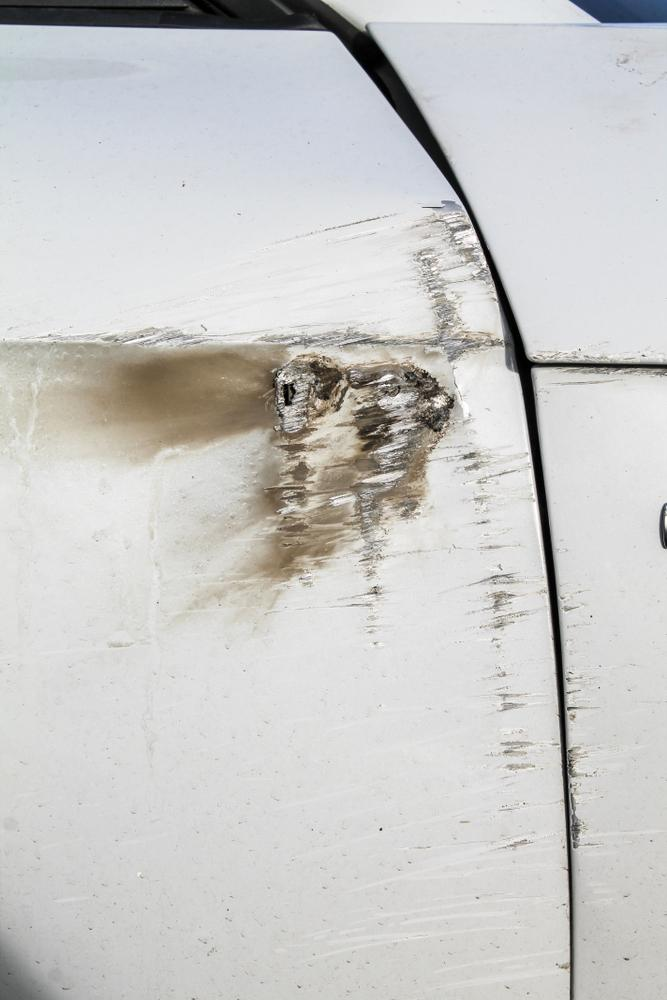scratch: (0, 197, 570, 1000), (560, 583, 661, 852)
